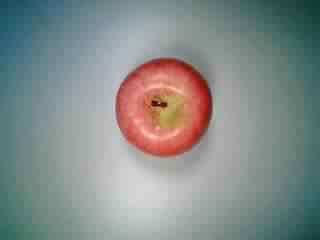apple: (113, 55, 217, 159)
